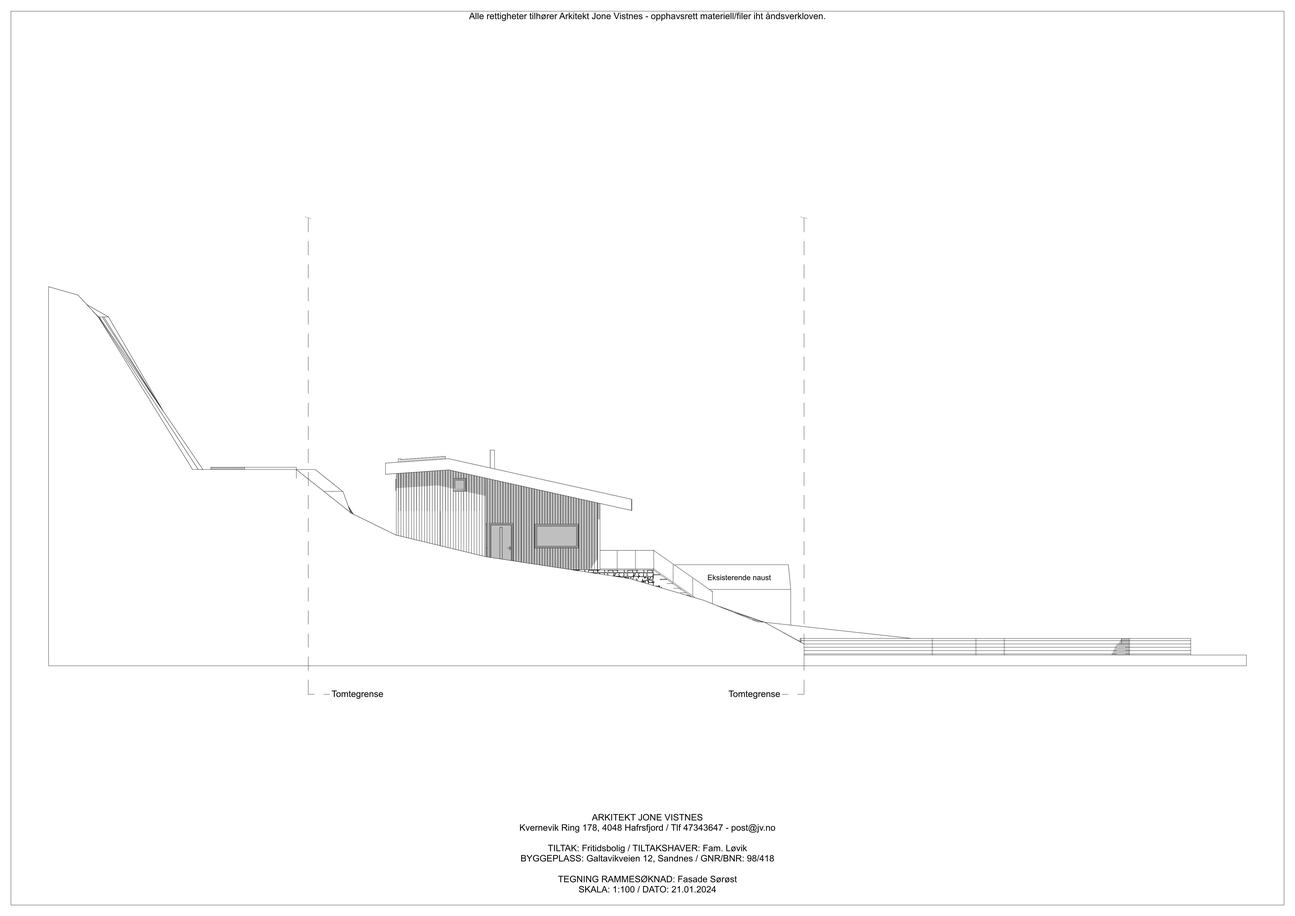fasade: (299, 446, 810, 674)
